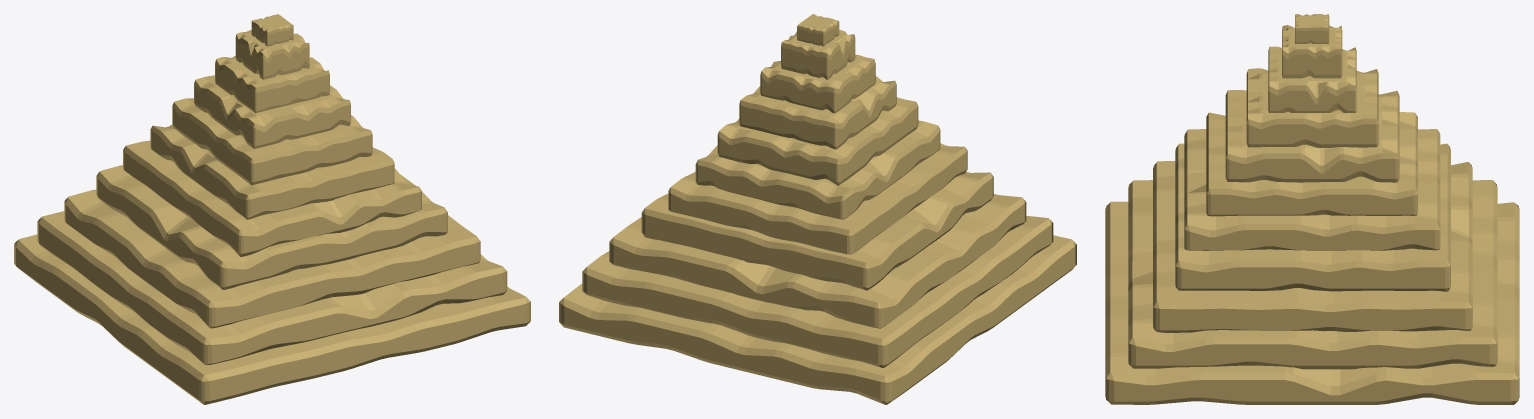
File: BPramit.fbx
3 renders of one model, left to right at view 1: azimuth 30°, elevation 25°; view 2: azimuth 150°, elevation 25°; view 3: azimuth 270°, elevation 25°, orthographic. The views are drawn at different scales.
Parts seen in each view (by area): view 1: Cube.013; view 2: Cube.013; view 3: Cube.013.
Boxes of the visible parts, x1,y1,x2,y2 form: Cube.013: (14,14,530,404); Cube.013: (559,14,1076,404); Cube.013: (1105,14,1519,404).
Size of the model in its own units: 88.3 by 70.36 by 88.3.
